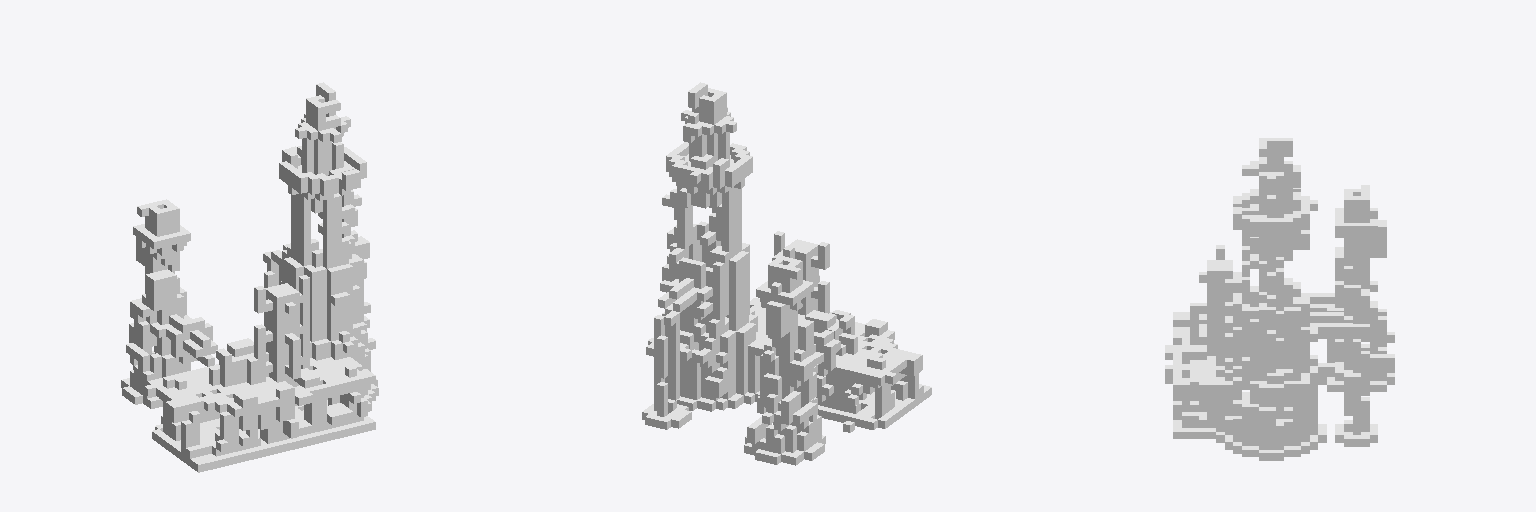
The model's file is old_factory-3.obj.
3 views of the same model, side by side, from view 1: azimuth 30°, elevation 25°; view 2: azimuth 150°, elevation 25°; view 3: azimuth 270°, elevation 25° (orthographic).
Parts seen in each view (by area): view 1: object 1; view 2: object 1; view 3: object 1.
Boxes of the visible parts, x1,y1,x2,y2 form: object 1: [121, 82, 378, 472]; object 1: [642, 82, 931, 465]; object 1: [1165, 138, 1394, 460].
Size of the model in its own units: 3.2 by 3.9 by 2.7.